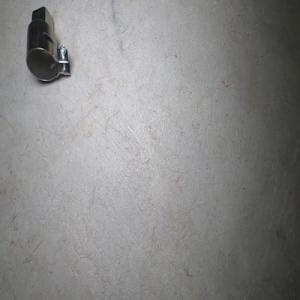MetalPart: (25, 4, 71, 82)
